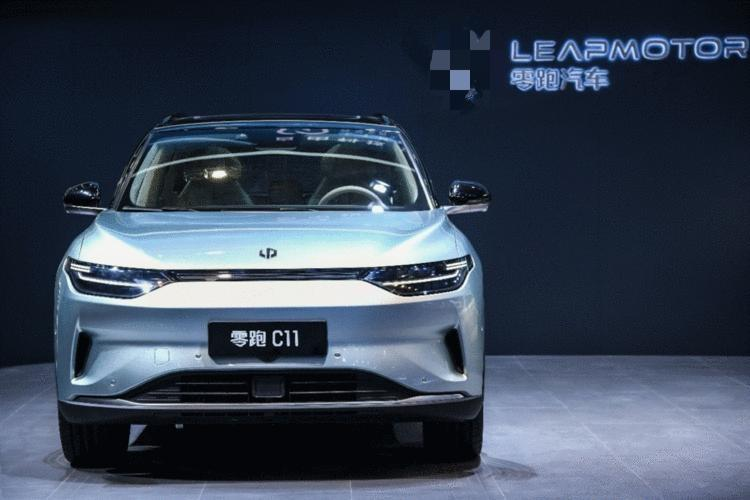LEAPMOTOR: (259, 247, 277, 259)
